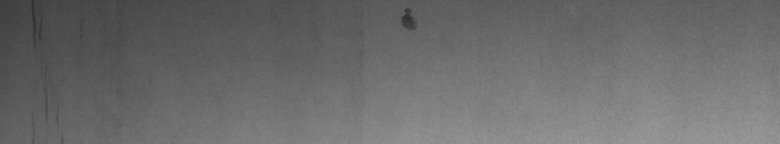fi: (396, 4, 421, 36)
